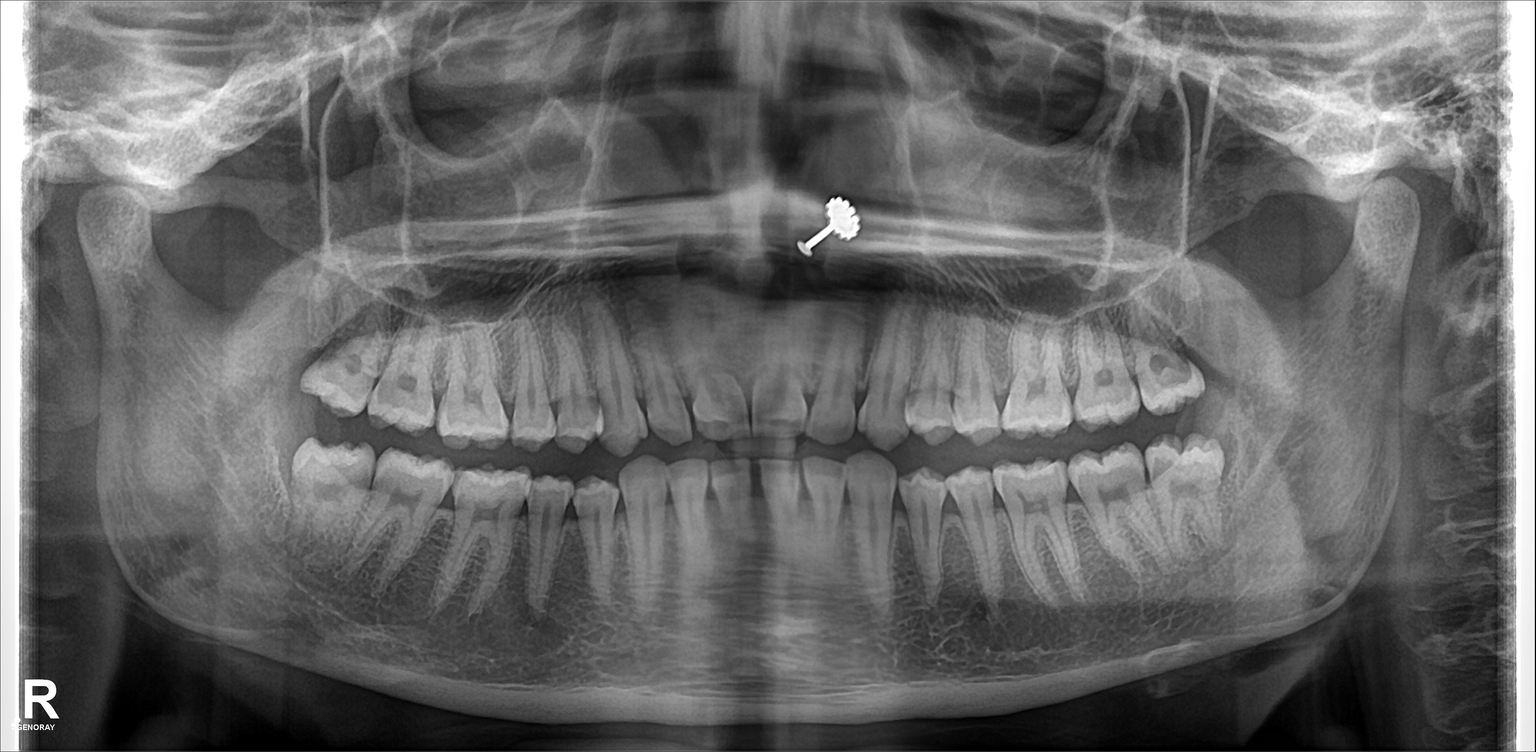Impacted Third Molar: (1149, 445, 1241, 554), (292, 450, 372, 548)
